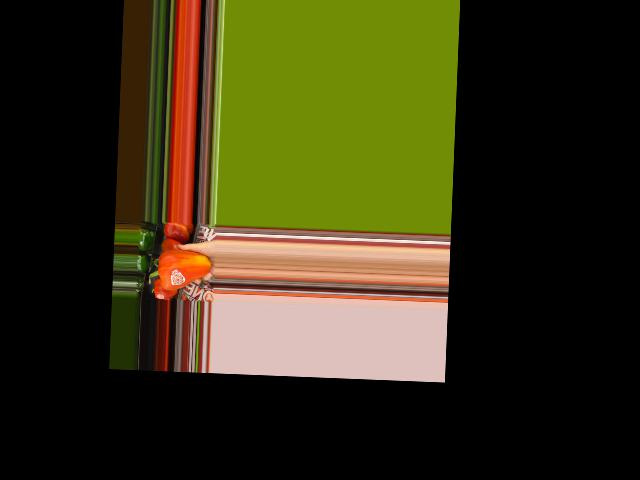bell_pepper: (147, 244, 210, 293)
